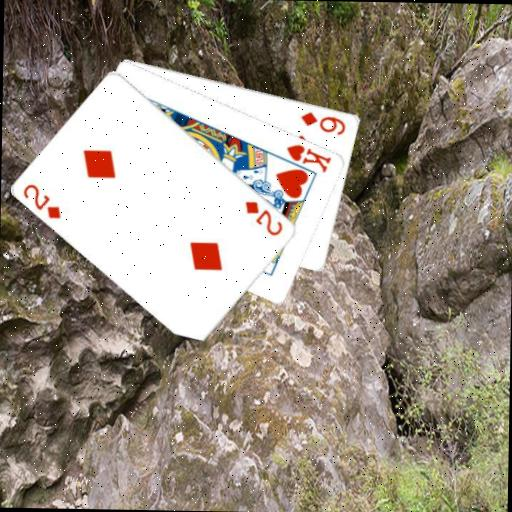2D: (242, 197, 286, 238), (20, 180, 64, 221)
6D: (298, 108, 348, 136)
KH: (283, 141, 334, 174)
